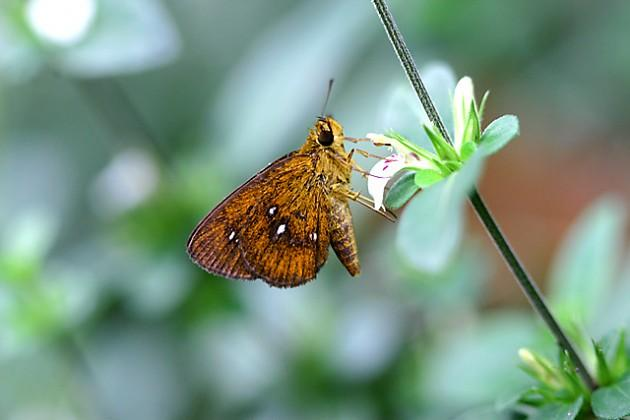Hesperiidae: (183, 77, 397, 290)
